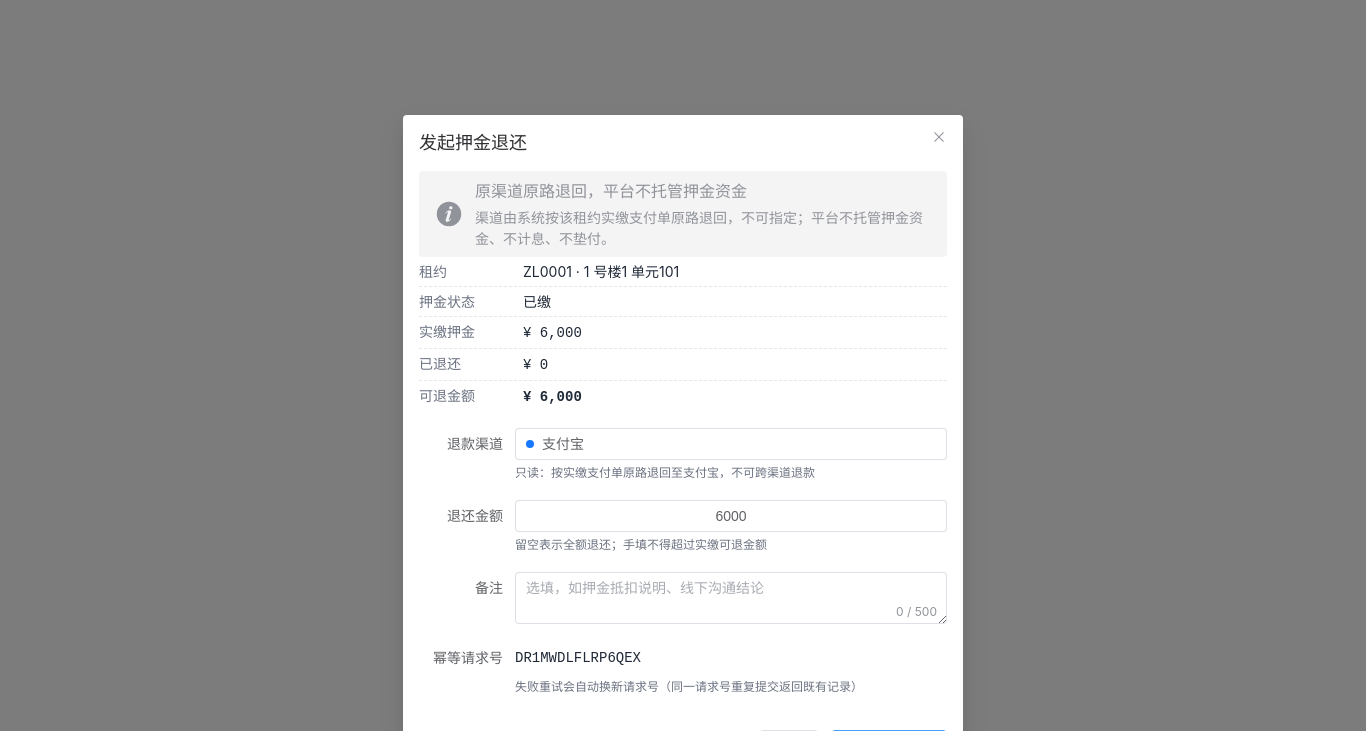
Test case: DepositRefundDialog · 金额默认全额与上限拦截（R72） › 手填金额 > 实缴可退：前端即拦截并给出可退金额，且不发起请求
Replace the text in the number field labelled "退还金额" with "6001" at (731, 516), box x1=530 y1=501 x2=932 y2=531
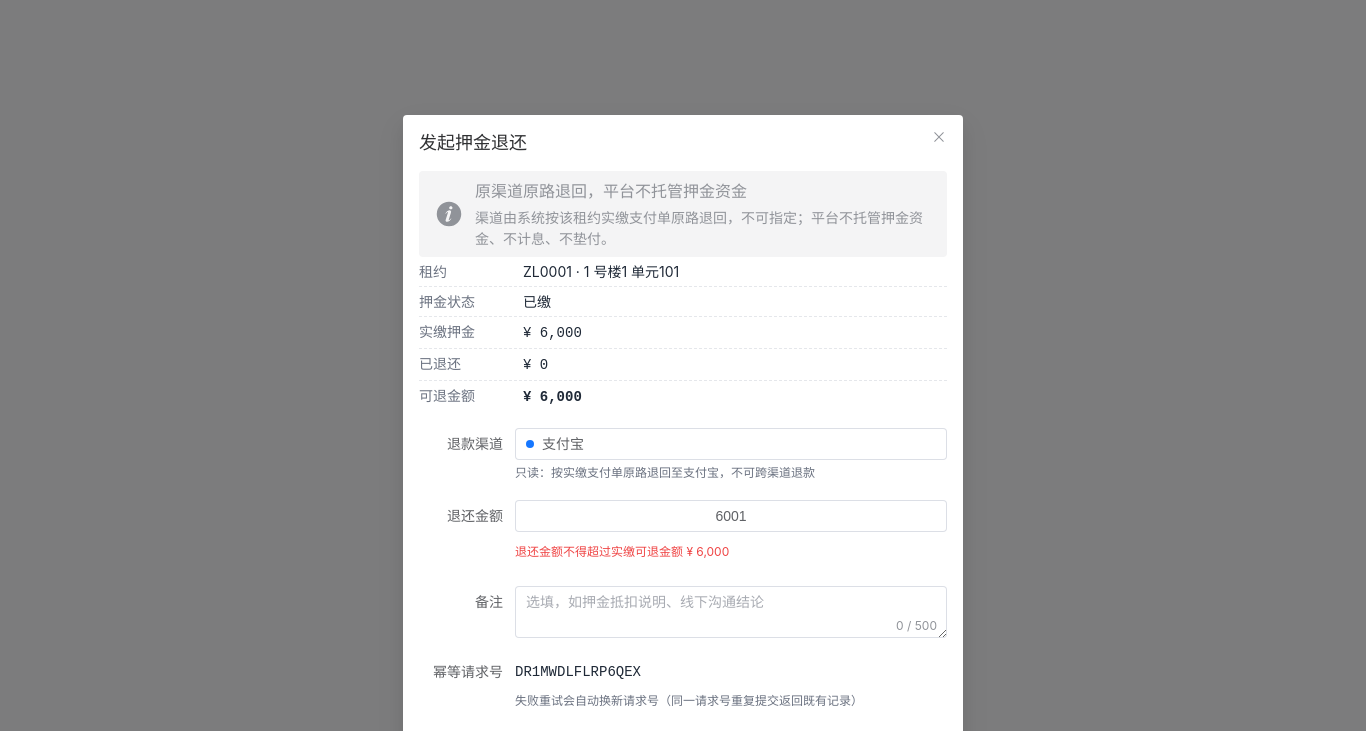
Check: the text "退还金额不得超过实缴可退金额 ¥ 6,000" is shown, box x1=515 y1=544 x2=729 y2=559
